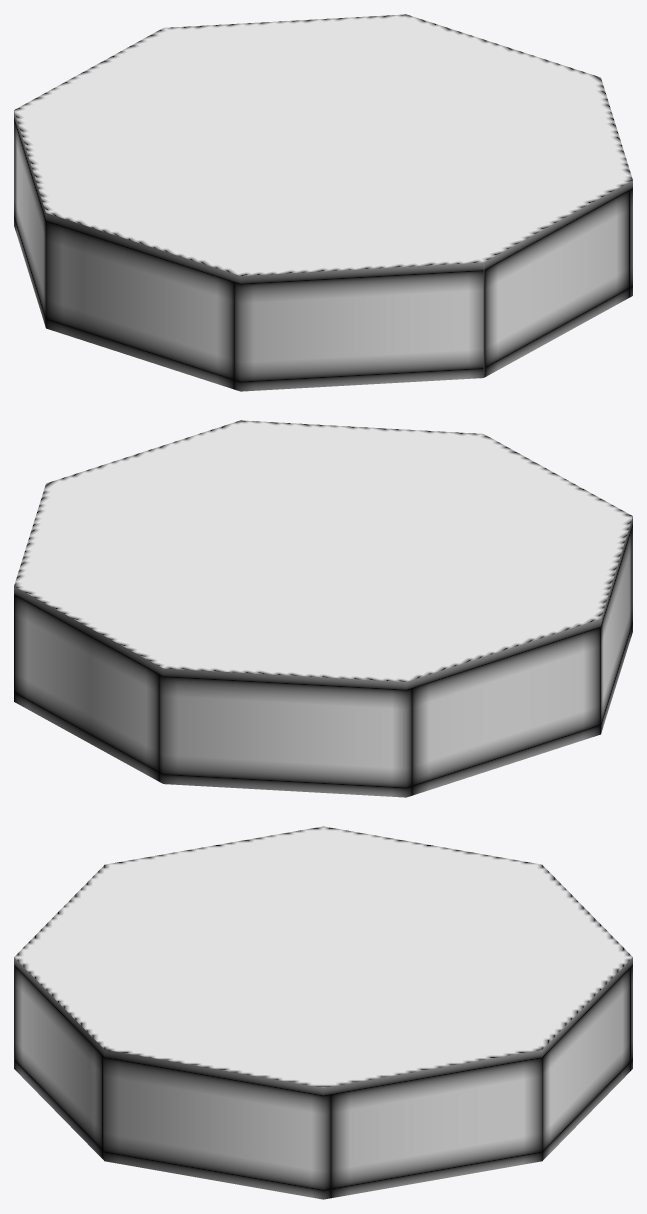
The model's file is Coin.fbx.
The picture shows the model from 3 angles, top to bottom: view 1: azimuth 30°, elevation 25°; view 2: azimuth 150°, elevation 25°; view 3: azimuth 270°, elevation 25°; orthographic projection. The views are drawn at different scales.
Parts seen in each view (by area): view 1: Coin; view 2: Coin; view 3: Coin.
Part boxes in pixels (x1,y1,x2,y2): Coin: (14, 14, 632, 391); Coin: (14, 420, 632, 797); Coin: (14, 826, 632, 1199).
Bounding box in the file's own units: 0.676 × 0.1346 × 0.676.
Materials: 1 (1 with a texture image).
